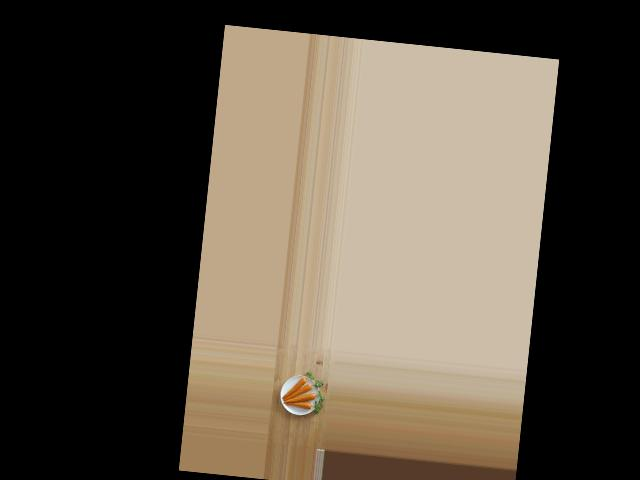carrot: (280, 373, 308, 400)
